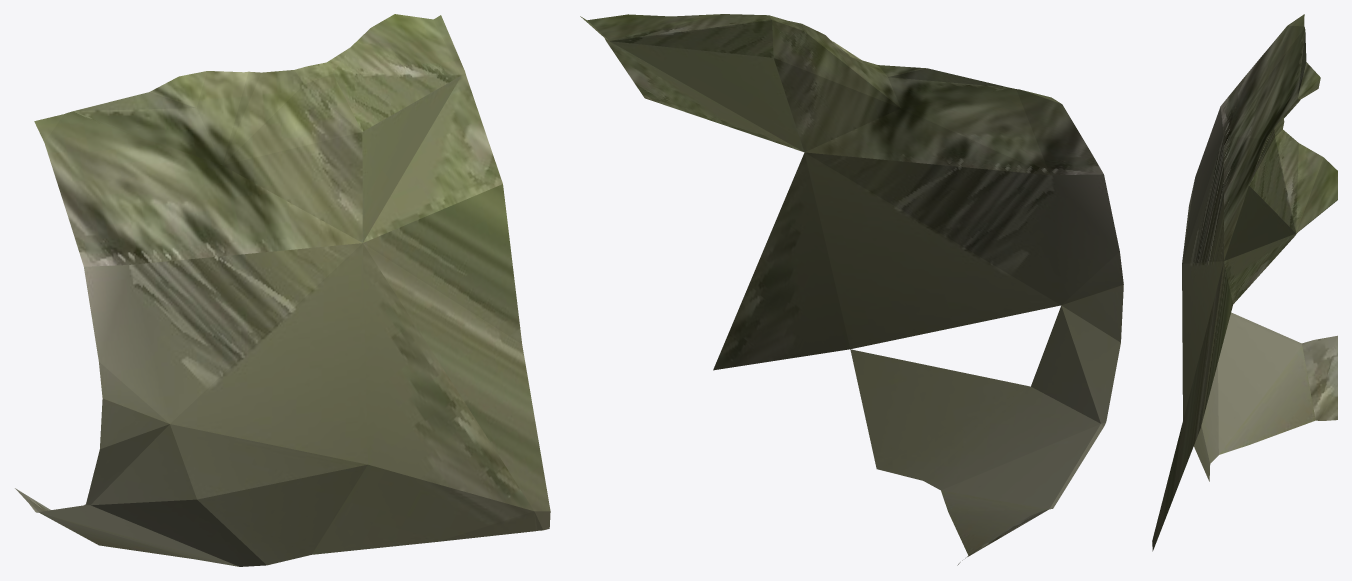
The picture shows the model from 3 angles, left to right: view 1: azimuth 30°, elevation 25°; view 2: azimuth 150°, elevation 25°; view 3: azimuth 270°, elevation 25°; orthographic projection. The views are drawn at different scales.
Bounding box in the file's own units: 2.95 × 2.95 × 1.32.
Materials: 4 (4 with a texture image).
